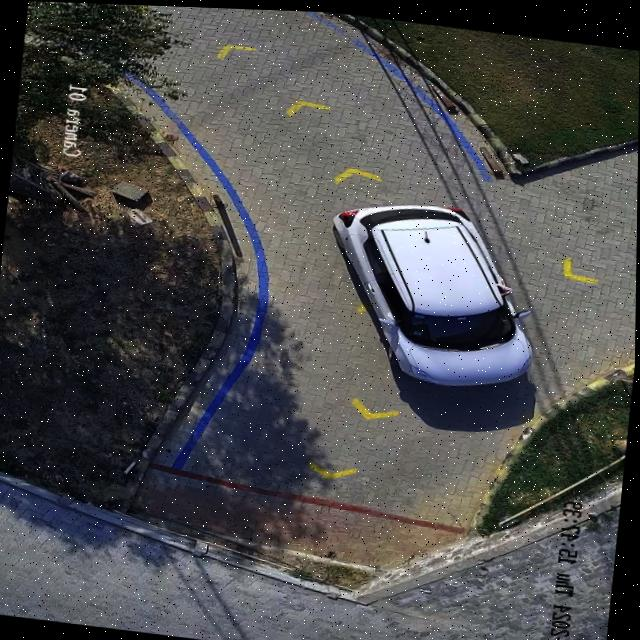car: (333, 201, 532, 382)
